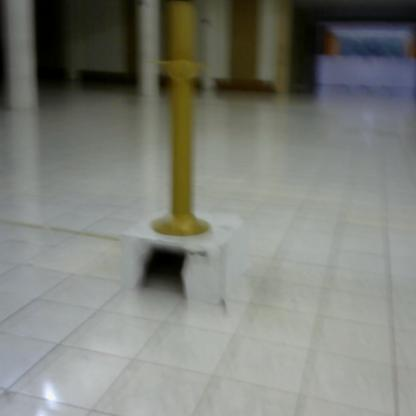pole: (145, 1, 224, 242)
